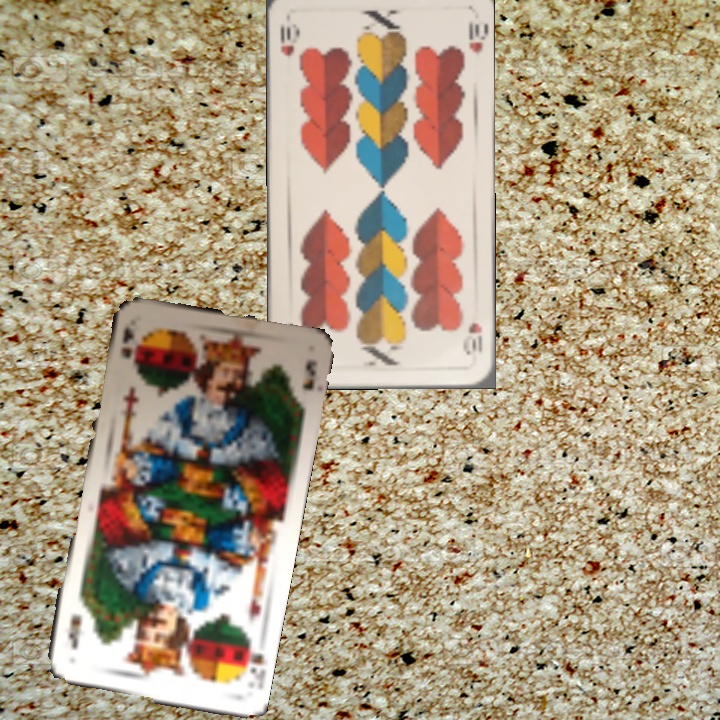H10: (276, 20, 300, 59), (462, 318, 485, 357)
SK: (240, 636, 267, 678), (117, 322, 137, 360)
